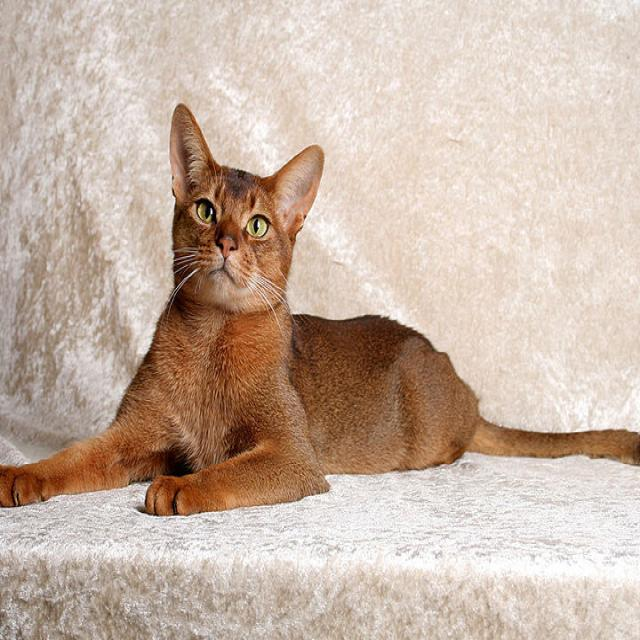Abyssinian: (0, 98, 640, 524)
